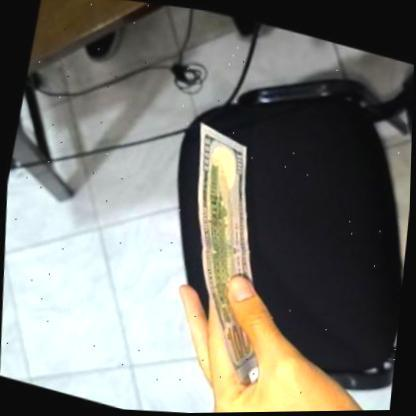dollar_back: (146, 113, 304, 370)
